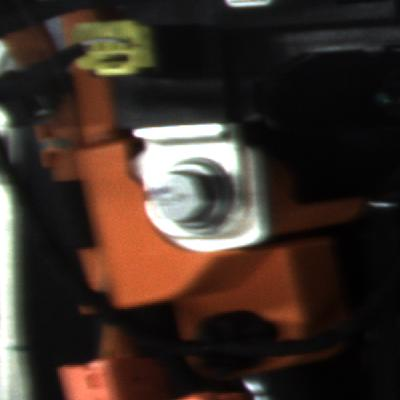nut_b: (146, 149, 246, 242)
